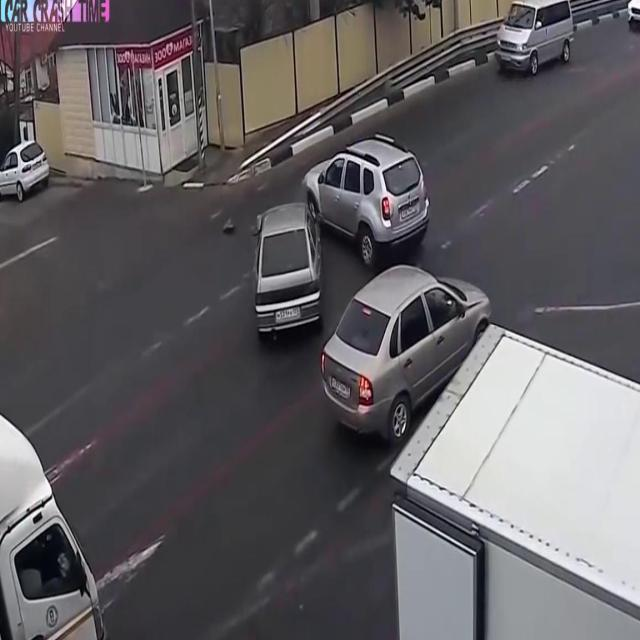accident: (217, 128, 435, 355)
non_accident: (314, 248, 640, 640)
